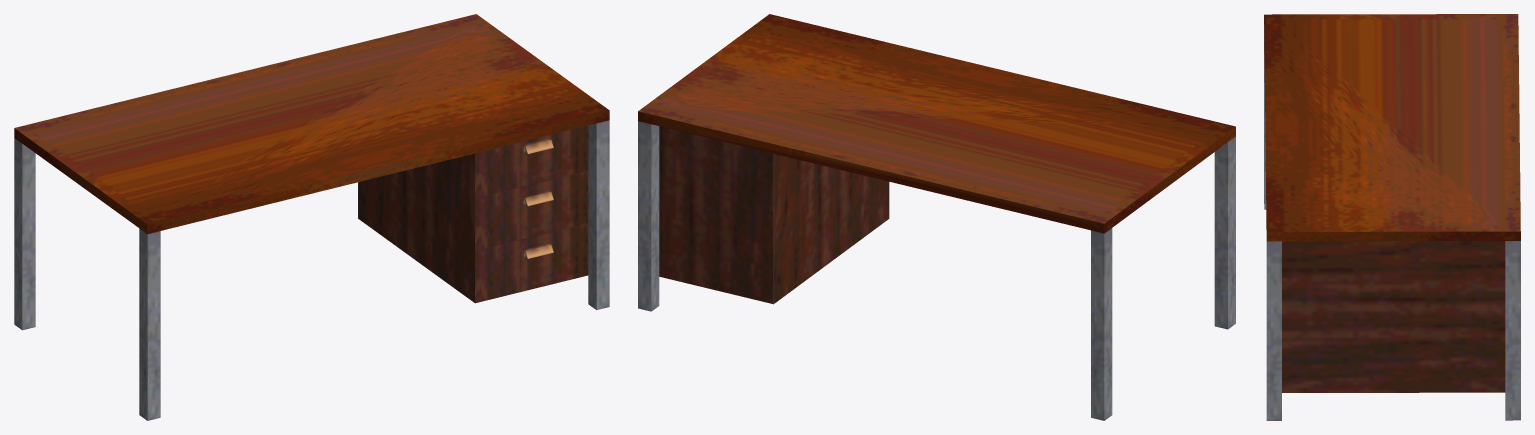
File: desk1_alt2.obj
The picture shows the model from 3 angles, left to right: view 1: azimuth 30°, elevation 25°; view 2: azimuth 150°, elevation 25°; view 3: azimuth 270°, elevation 25°; orthographic projection. The views are drawn at different scales.
Parts seen in each view (by area): view 1: desk1_alt2; view 2: desk1_alt2; view 3: desk1_alt2.
Boxes of the visible parts, bbox=[...] form: desk1_alt2: bbox=[14, 14, 609, 420]; desk1_alt2: bbox=[638, 14, 1235, 420]; desk1_alt2: bbox=[1264, 14, 1520, 420].
Bounding box in the file's own units: 2.21 × 0.8911 × 1.1.
